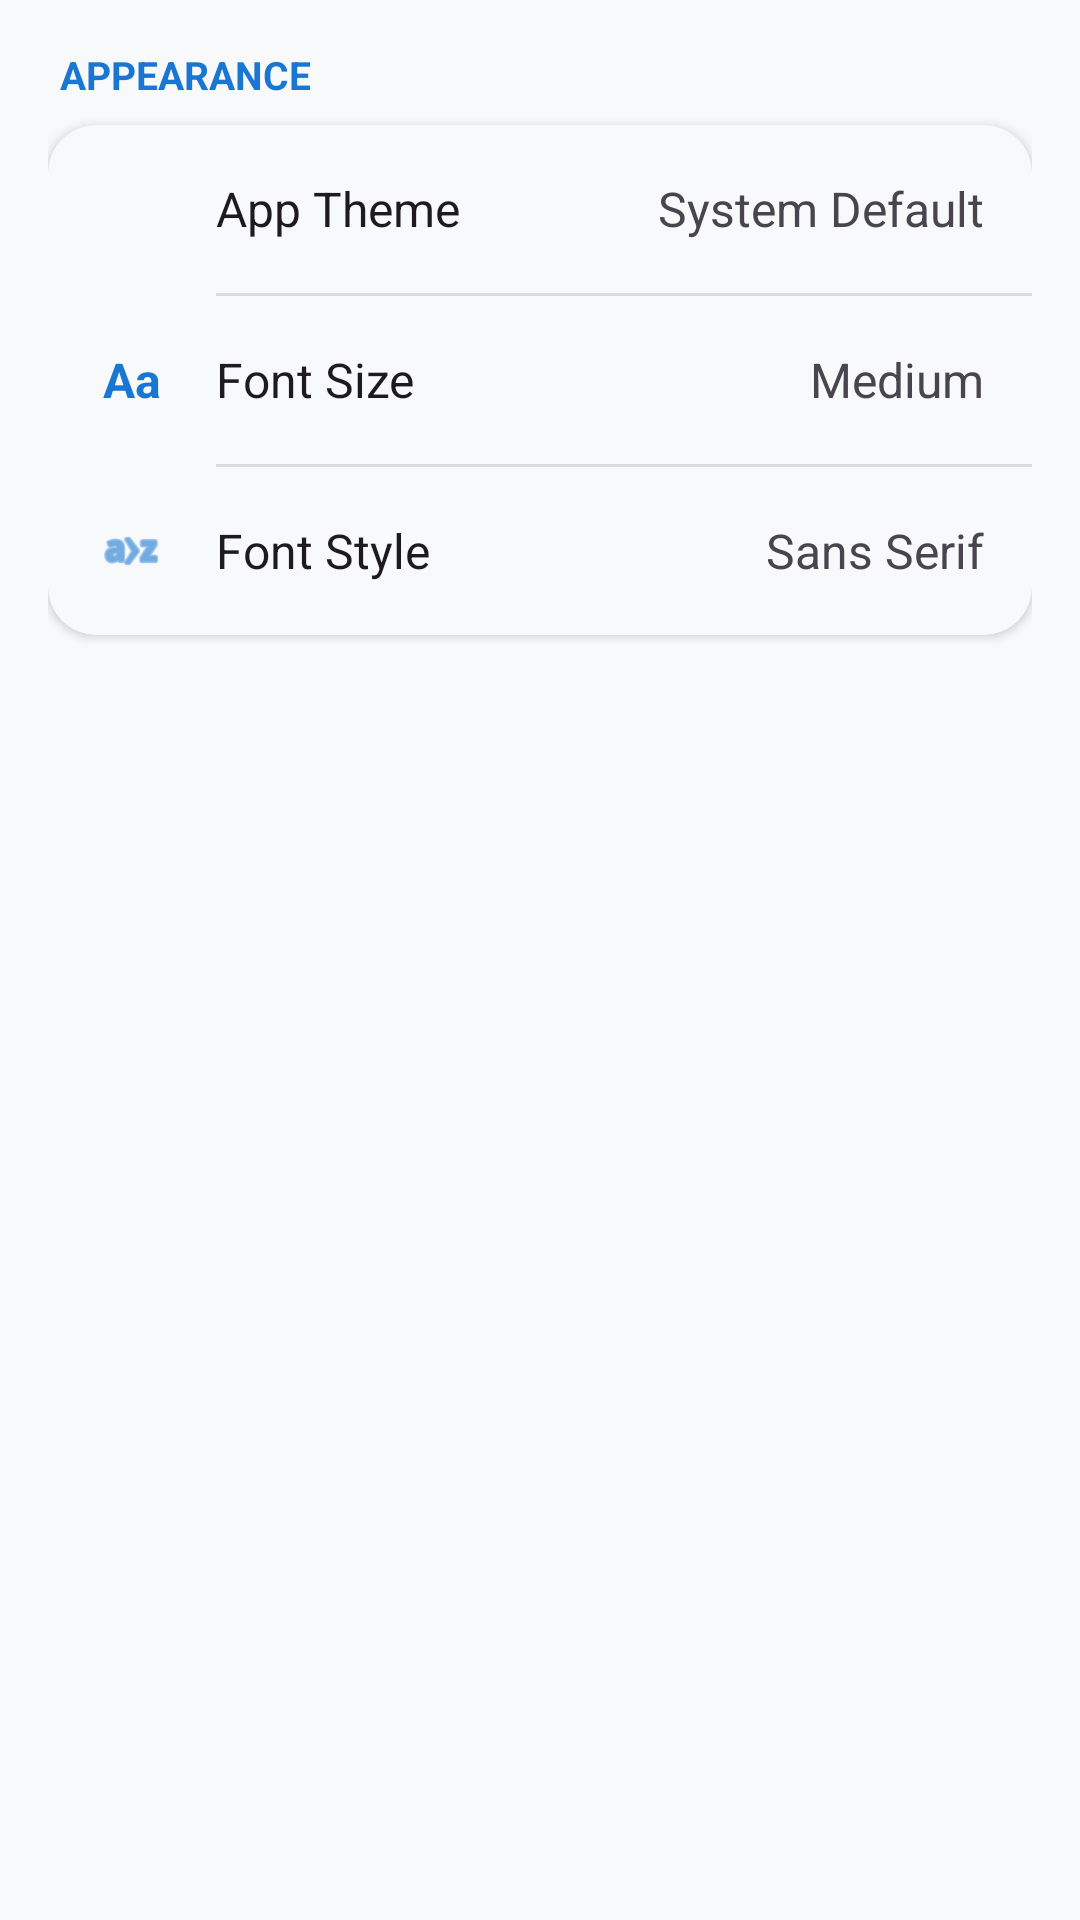

Screen size 1080×1920. Icon name, then its box in pixels as bbox=[x1, y1, x2, y2]:
sort alphabetically: bbox=[104, 537, 158, 565]
